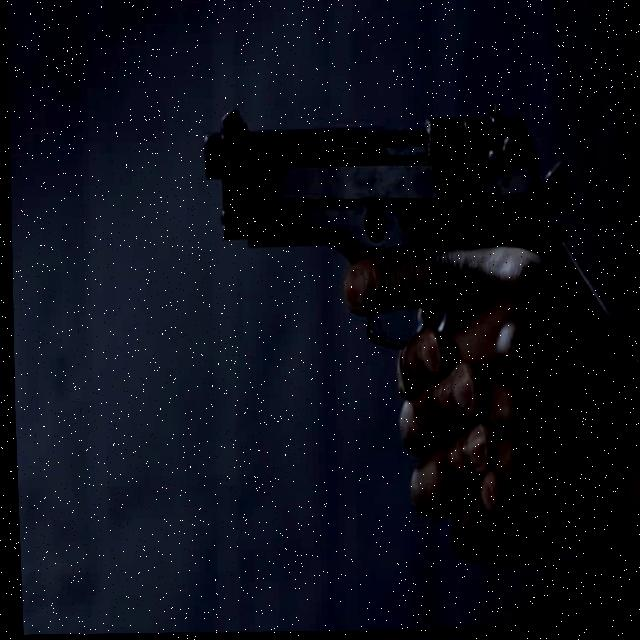pistol: (193, 89, 581, 363)
